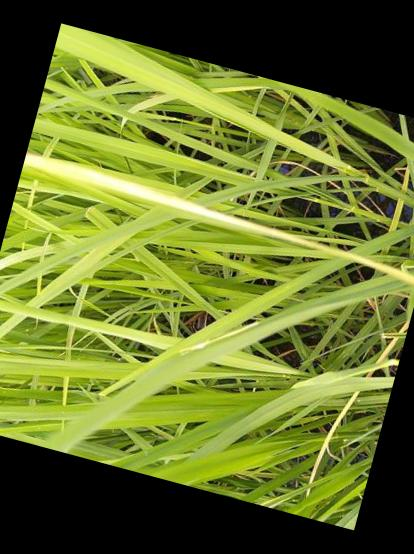Leaf Blight: (22, 150, 414, 288)
